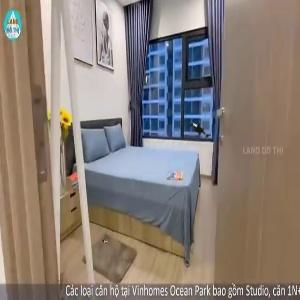drone: (184, 111, 222, 149)
